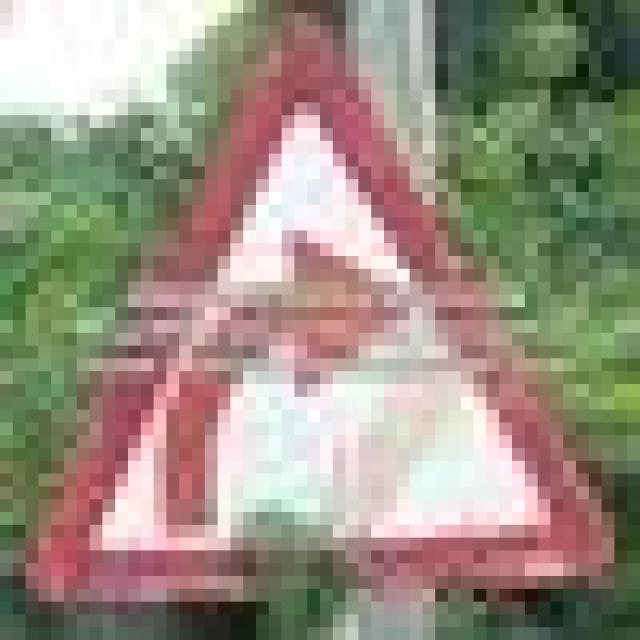right hand curve: (34, 28, 603, 587)
